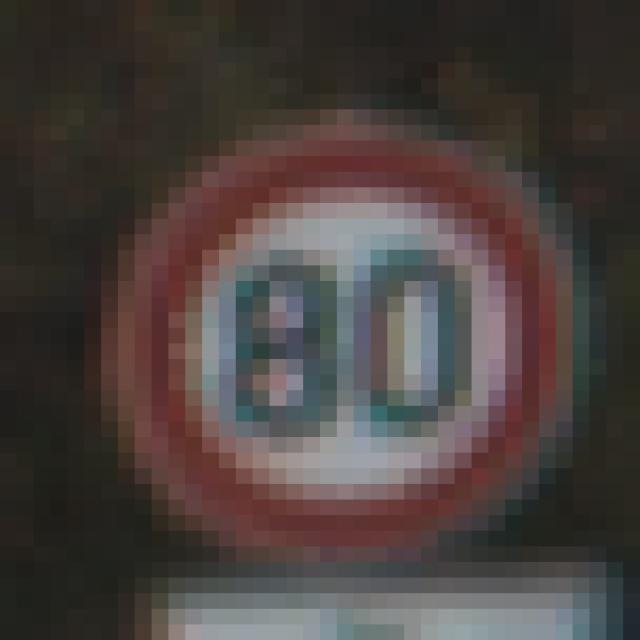Ograniczenie predkosci do 80: (128, 138, 570, 556)
